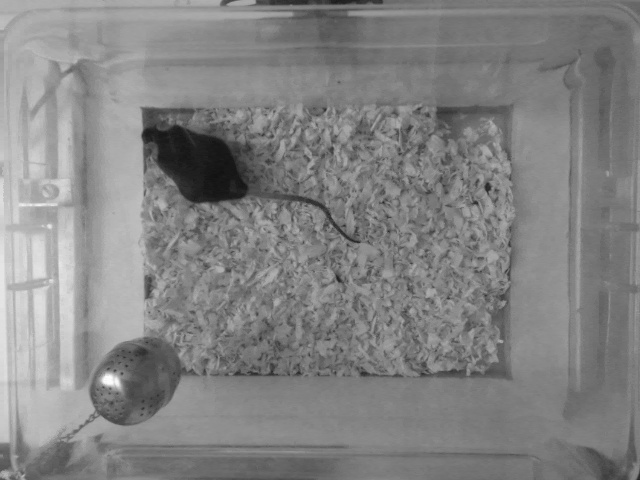mice: (139, 122, 363, 245)
